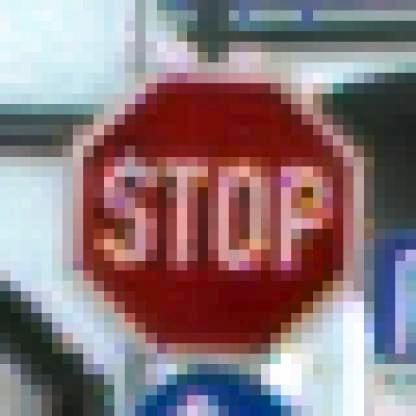Stop Sign: (63, 62, 373, 354)
